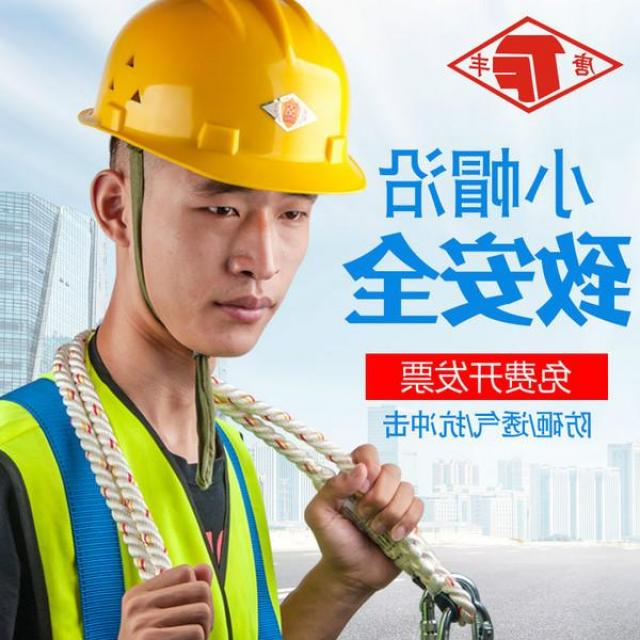Reflective-Jacket: (0, 359, 284, 636)
Safety-Helmet: (80, 4, 369, 198)
